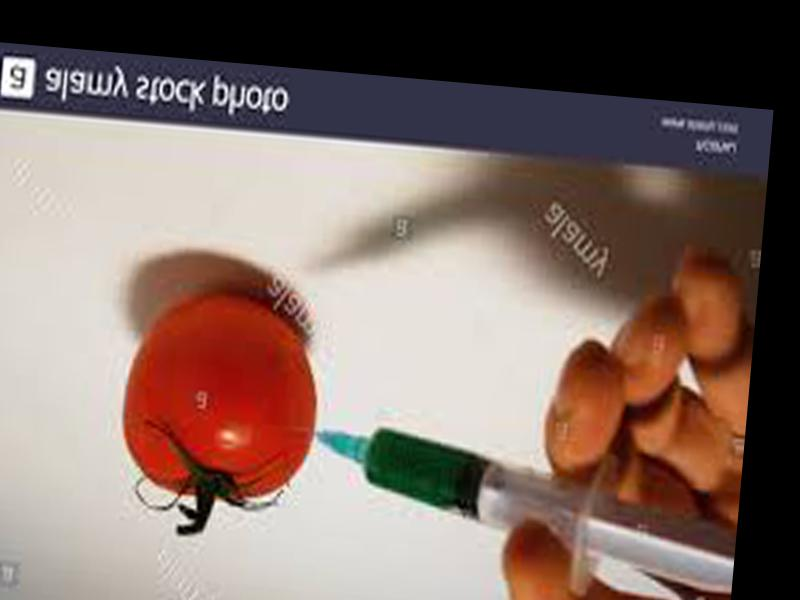Tomato: (119, 287, 325, 505)
